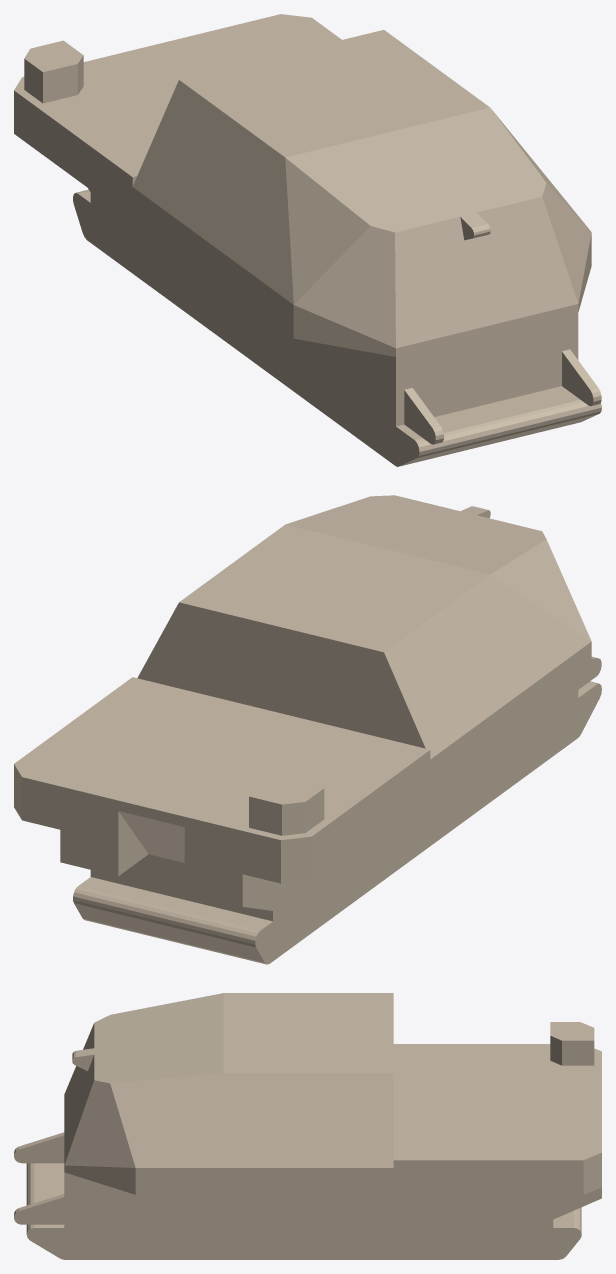
Rendered from Body_Simple3.fbx.
3 views of the same model, one above another, from view 1: azimuth 30°, elevation 25°; view 2: azimuth 150°, elevation 25°; view 3: azimuth 270°, elevation 25° (orthographic). The views are drawn at different scales.
Parts seen in each view (by area): view 1: mesh 1; view 2: mesh 1; view 3: mesh 1.
Boxes of the visible parts, x1=… form: mesh 1: x1=14, y1=14, x2=601, y2=466; mesh 1: x1=14, y1=495, x2=601, y2=964; mesh 1: x1=14, y1=993, x2=601, y2=1259.
Bounding box in the file's own units: 0.898 × 0.688 × 1.92.
